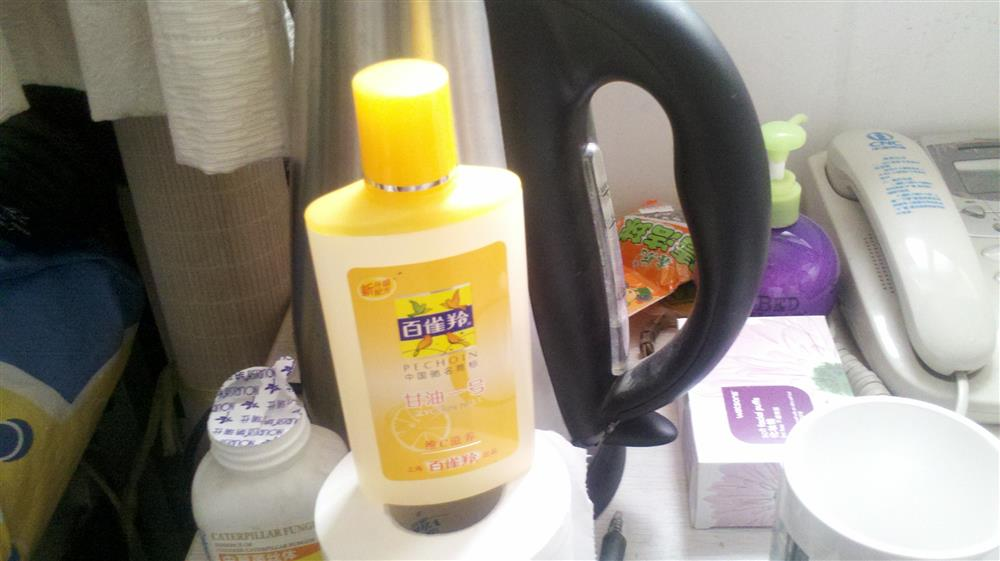pechoin: (302, 57, 536, 501)
